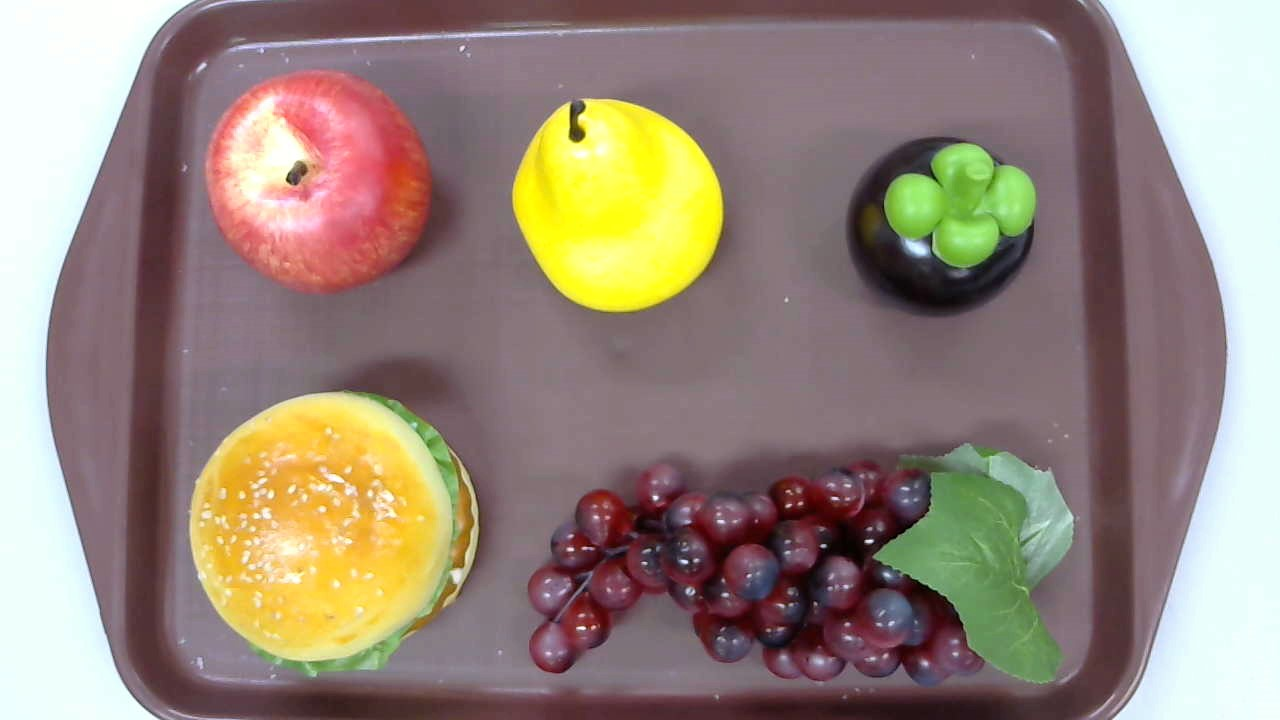grape: (528, 442, 1075, 687)
hamburger: (188, 389, 480, 678)
mangosteen: (847, 137, 1035, 318)
red apple: (205, 68, 434, 296)
yellow pear: (510, 97, 725, 315)
